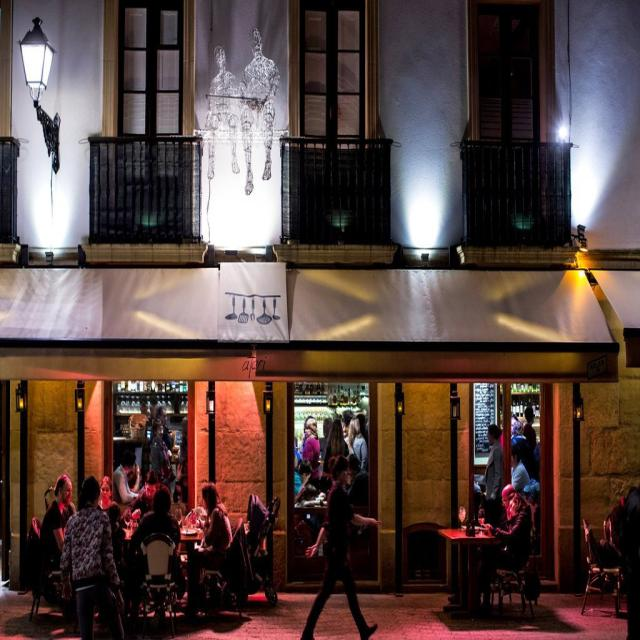body: (297, 454, 384, 639), (201, 21, 280, 202), (446, 480, 534, 616), (58, 472, 126, 639), (125, 481, 182, 618), (180, 478, 234, 617), (38, 471, 74, 609), (607, 483, 639, 602), (292, 484, 328, 547), (484, 422, 505, 526), (150, 417, 177, 495), (124, 468, 158, 528), (510, 440, 535, 508), (149, 404, 175, 468), (322, 418, 350, 475), (112, 449, 140, 504), (302, 417, 321, 490), (112, 456, 140, 505), (345, 415, 369, 472), (346, 452, 370, 506), (177, 415, 188, 504), (510, 421, 529, 472), (98, 474, 120, 518), (294, 457, 314, 498), (173, 456, 188, 504), (522, 405, 537, 453), (318, 416, 334, 459), (138, 400, 158, 426), (357, 410, 369, 440), (342, 409, 351, 446), (534, 440, 540, 482), (302, 414, 314, 433), (295, 434, 302, 465), (510, 413, 518, 434), (242, 519, 250, 534)
